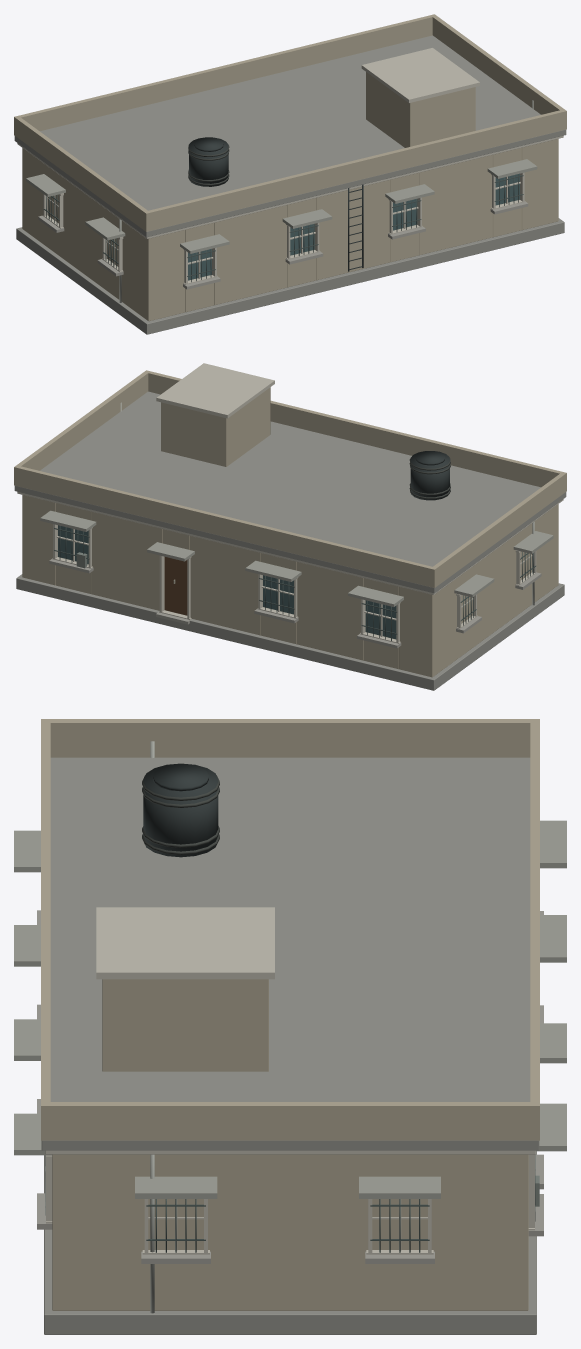
The model's file is railway_quarters.glb.
3 views of the same model, one above another, from view 1: azimuth 30°, elevation 25°; view 2: azimuth 150°, elevation 25°; view 3: azimuth 270°, elevation 25° (orthographic). The views are drawn at different scales.
Visible parts, largest first — view 1: railway_quarters; view 2: railway_quarters; view 3: railway_quarters.
Part boxes in pixels (x1,y1,x2,y2): railway_quarters: (14, 14, 566, 334); railway_quarters: (14, 363, 566, 690); railway_quarters: (14, 719, 566, 1334).
Size of the model in its own units: 16.33 by 5.51 by 9.29.
